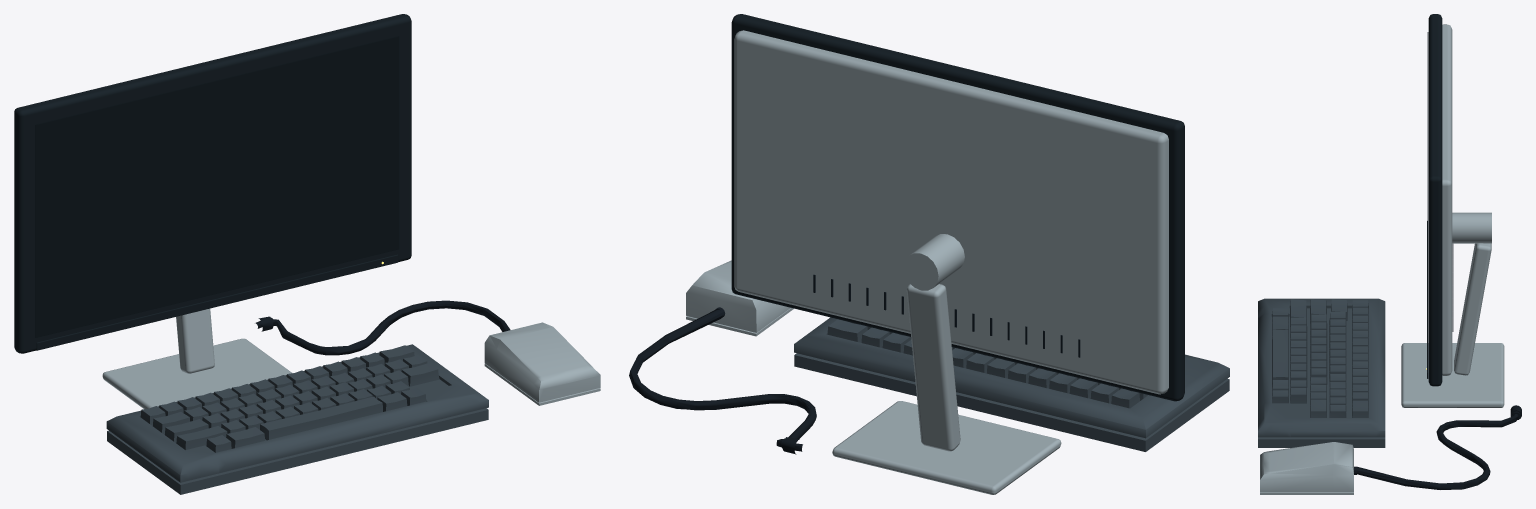
The model's file is computer.glb.
The picture shows the model from 3 angles, left to right: view 1: azimuth 30°, elevation 25°; view 2: azimuth 150°, elevation 25°; view 3: azimuth 270°, elevation 25°; orthographic projection. The views are drawn at different scales.
Visible parts, largest first — view 1: glass, keys, bezel, aluminum, cable; view 2: aluminum, keys, bezel, cable, dark; view 3: keys, aluminum, bezel, cable, glass.
Part boxes in pixels (x1=…): glass: x1=35, y1=36, x2=399, y2=337; keys: x1=106, y1=344, x2=488, y2=494; bezel: x1=14, y1=14, x2=411, y2=353; aluminum: x1=102, y1=308, x2=600, y2=408; cable: x1=255, y1=300, x2=510, y2=355; aluminum: x1=686, y1=30, x2=1168, y2=494; keys: x1=794, y1=317, x2=1229, y2=451; bezel: x1=731, y1=14, x2=1184, y2=401; cable: x1=629, y1=307, x2=816, y2=454; dark: x1=813, y1=274, x2=1080, y2=357; keys: x1=1258, y1=298, x2=1385, y2=447; aluminum: x1=1260, y1=24, x2=1504, y2=494; bezel: x1=1427, y1=14, x2=1442, y2=386; cable: x1=1354, y1=405, x2=1521, y2=489; glass: x1=1427, y1=32, x2=1428, y2=368.
Bounding box in the file's own units: 0.7482 × 0.4905 × 0.4106.
